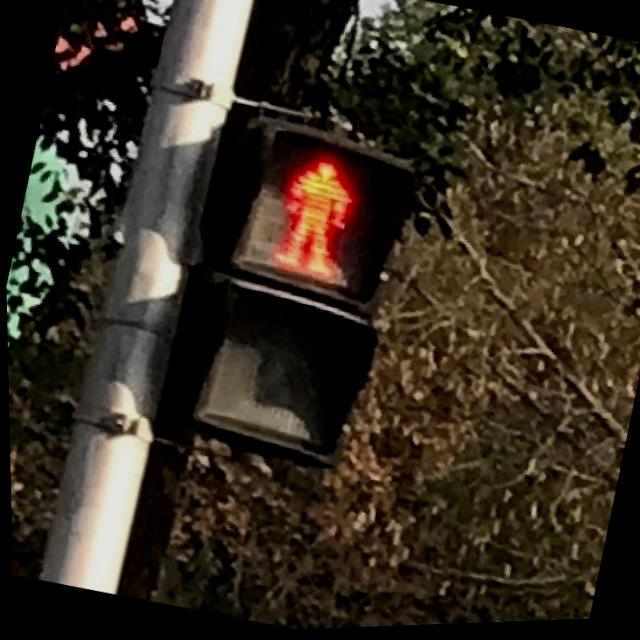red_light: (236, 121, 404, 302)
